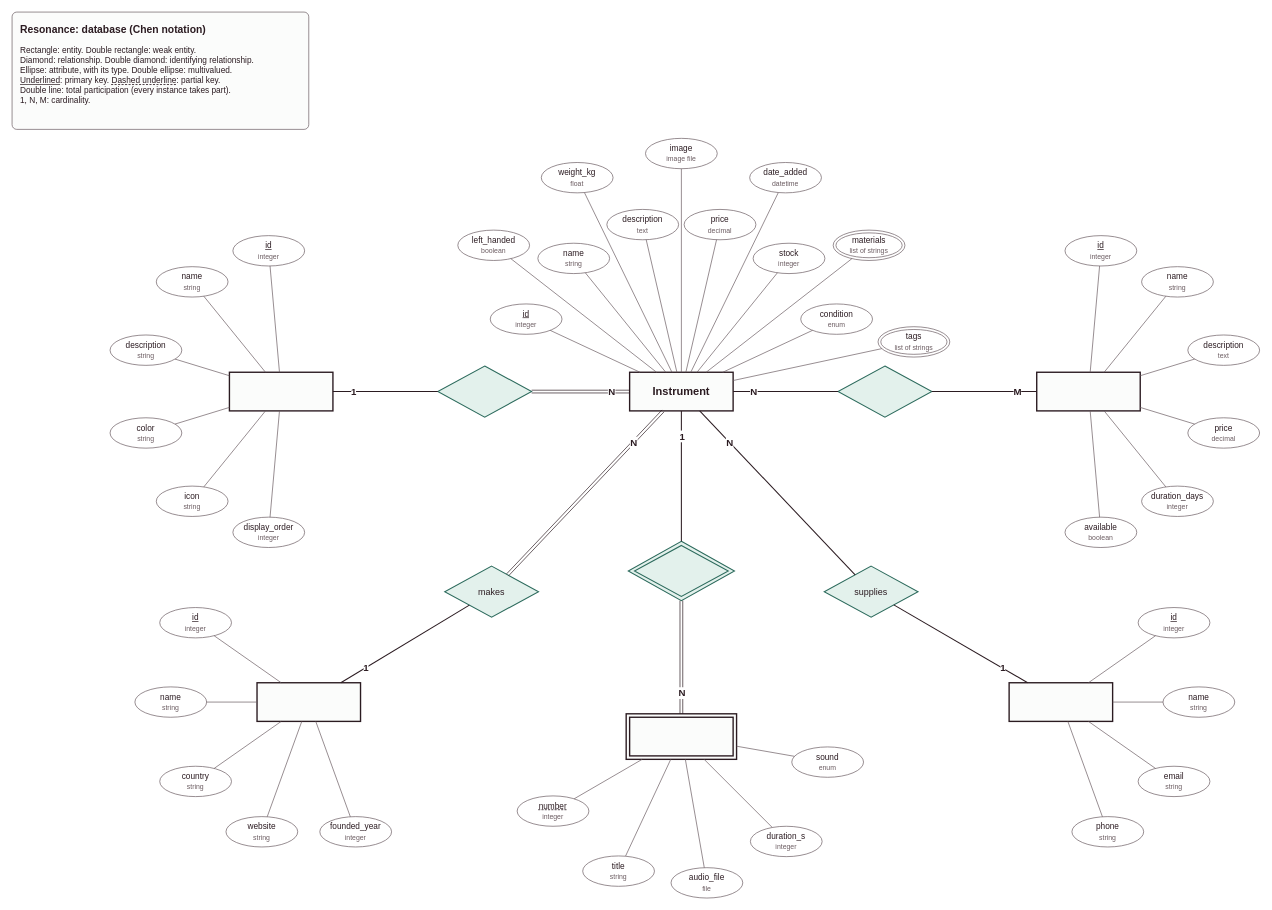
This 1272x910 diagram has some shape labels left out. The shapes that lost their labels are listed below. From the top down, each one's centre as x and y in pixels, then its label:
At point (280, 391): "Category".
At point (484, 391): "belongs to".
At point (884, 391): "applies to".
At point (1088, 391): "Service".
At point (681, 571): "has".
At point (308, 702): "Brand".
At point (1060, 702): "Distributor".
At point (681, 736): "Recording".
